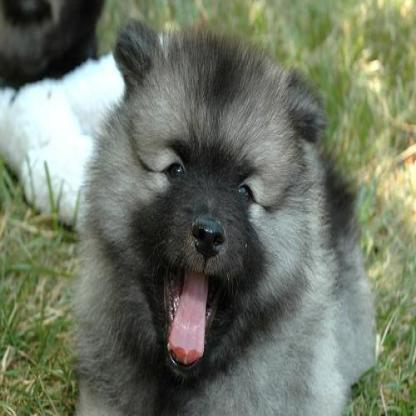keeshond: (72, 18, 374, 413)
